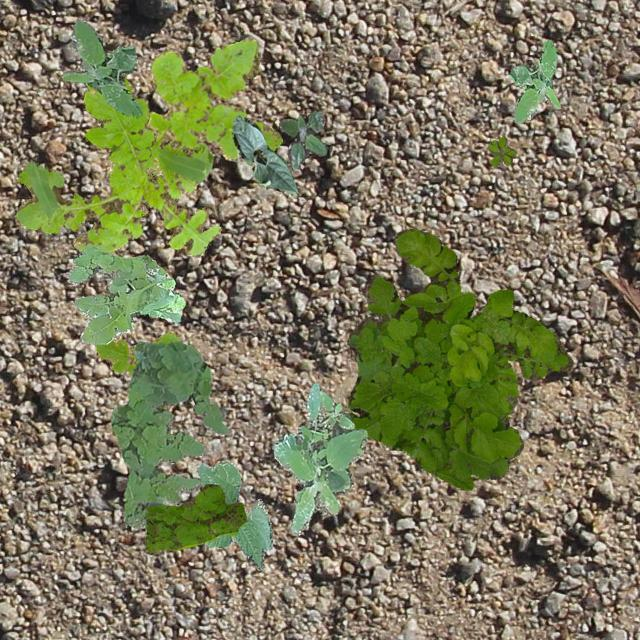crop: (196, 459, 272, 568), (232, 114, 298, 194)
weed: (347, 227, 572, 488), (16, 76, 220, 256), (108, 36, 282, 172), (110, 341, 228, 528), (272, 382, 366, 534), (66, 244, 184, 344), (62, 18, 142, 116), (144, 483, 244, 552), (508, 39, 560, 122), (94, 332, 180, 376), (280, 110, 326, 168), (488, 134, 516, 166)
